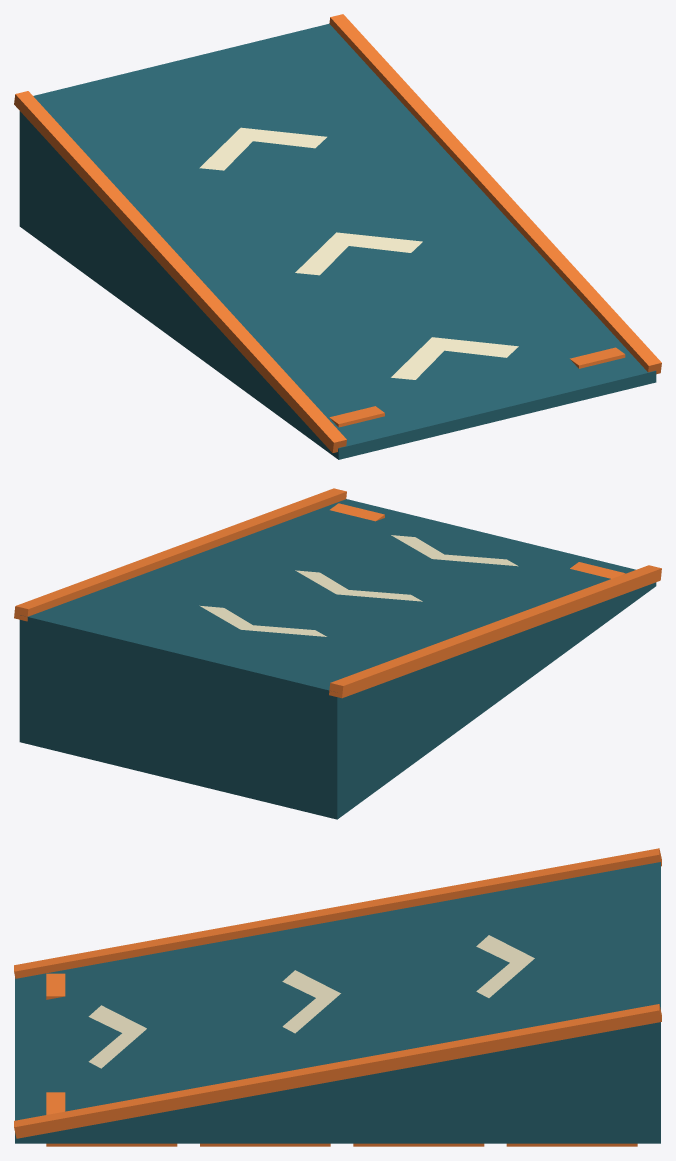
The model's file is water-ramp.glb.
3 views of the same model, one above another, from view 1: azimuth 30°, elevation 25°; view 2: azimuth 150°, elevation 25°; view 3: azimuth 270°, elevation 25° (orthographic).
Parts seen in each view (by area): view 1: Riptide ramp deck, Orange ramp edge, Orange ramp edge.001, Launch arrow.001, Launch arrow.002, Launch arrow; view 2: Riptide ramp deck, Orange ramp edge, Orange ramp edge.001, Launch arrow, Launch arrow.001, Launch arrow.002; view 3: Riptide ramp deck, Orange ramp edge.001, Orange ramp edge, Launch arrow.001, Launch arrow.002, Launch arrow, Floating pontoon.004, Floating pontoon.006, Floating pontoon.007, Floating pontoon.005, Floating pontoon.
Part boxes in pixels (x1,y1,x2,y2): Riptide ramp deck: [19, 23, 656, 459]; Orange ramp edge: [14, 91, 346, 452]; Orange ramp edge.001: [329, 14, 661, 374]; Launch arrow.001: [295, 232, 422, 275]; Launch arrow.002: [199, 127, 326, 170]; Launch arrow: [391, 337, 518, 379]; Riptide ramp deck: [19, 499, 656, 819]; Orange ramp edge: [329, 565, 661, 698]; Orange ramp edge.001: [14, 488, 346, 621]; Launch arrow: [391, 535, 518, 566]; Launch arrow.001: [295, 570, 422, 601]; Launch arrow.002: [199, 605, 326, 636]; Riptide ramp deck: [15, 862, 660, 1143]; Orange ramp edge.001: [14, 1004, 661, 1138]; Orange ramp edge: [14, 848, 661, 978]; Launch arrow.001: [282, 970, 340, 1033]; Launch arrow.002: [476, 935, 534, 997]; Launch arrow: [88, 1005, 146, 1068]; Floating pontoon.004: [46, 1092, 177, 1146]; Floating pontoon.006: [353, 1143, 484, 1146]; Floating pontoon.007: [506, 1143, 637, 1146]; Floating pontoon.005: [200, 1143, 330, 1146]; Floating pontoon: [46, 973, 65, 999].
Bounding box in the file's own units: 4.75 × 2 × 8.02.
